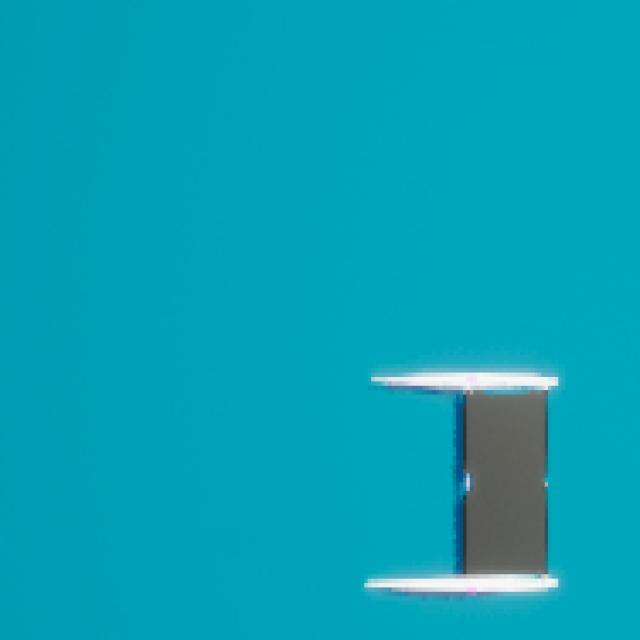boat: (364, 362, 565, 608)
drone: (466, 396, 546, 570)
